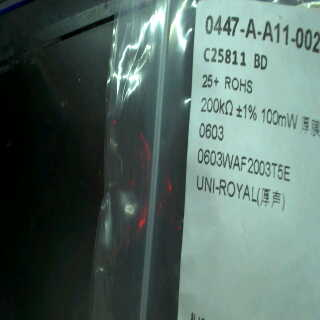200kR: (198, 96, 237, 116)
